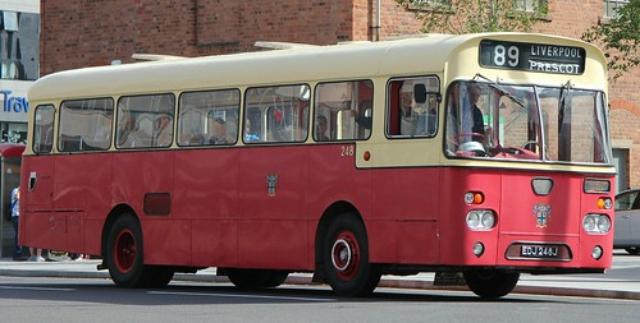bus: (17, 29, 614, 301)
